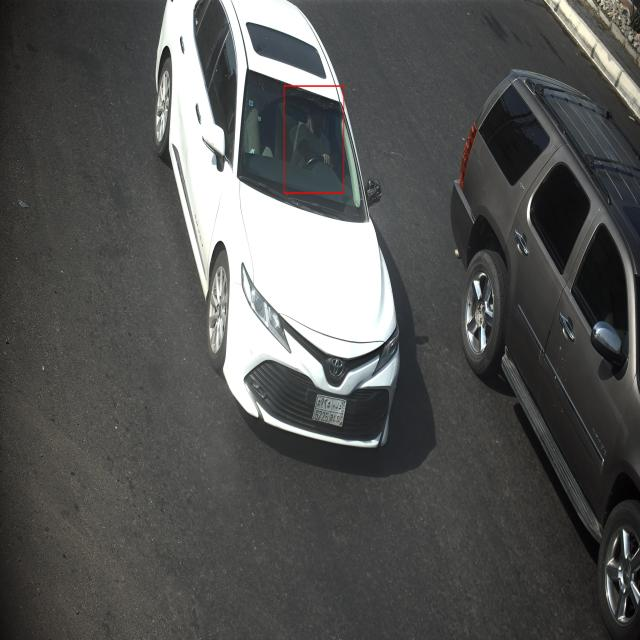windshield: (236, 68, 372, 224)
